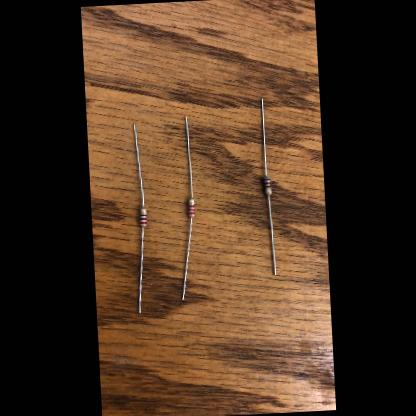resistor: (263, 177, 271, 195), (140, 207, 147, 226), (187, 198, 194, 216)
wire: (178, 217, 196, 299), (134, 228, 148, 312), (134, 122, 144, 206), (268, 197, 275, 274), (186, 117, 192, 197), (262, 98, 267, 176)
